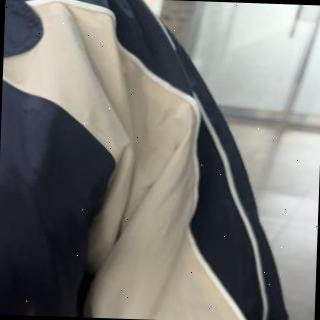fire: (23, 310, 40, 316)
